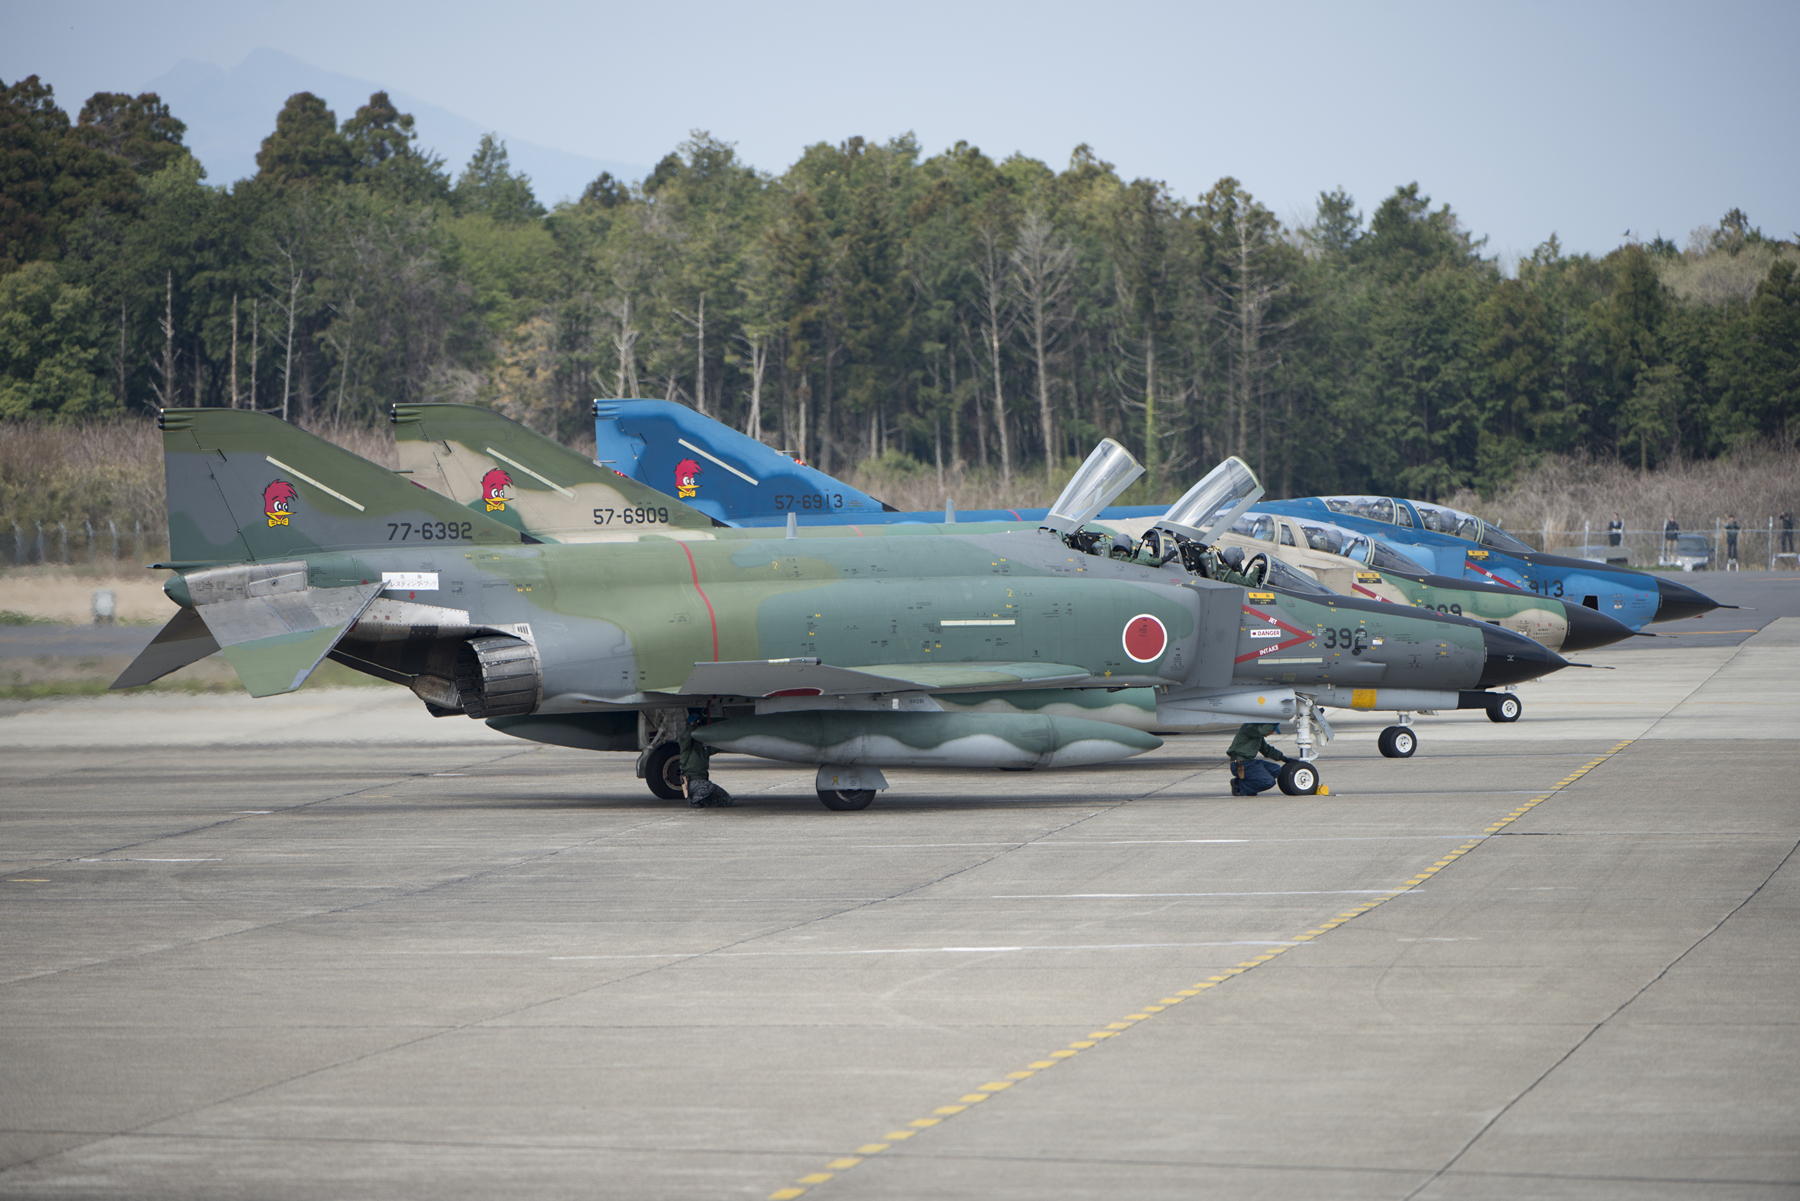F4: (107, 407, 1616, 810), (389, 402, 1678, 759), (590, 398, 1758, 722)
